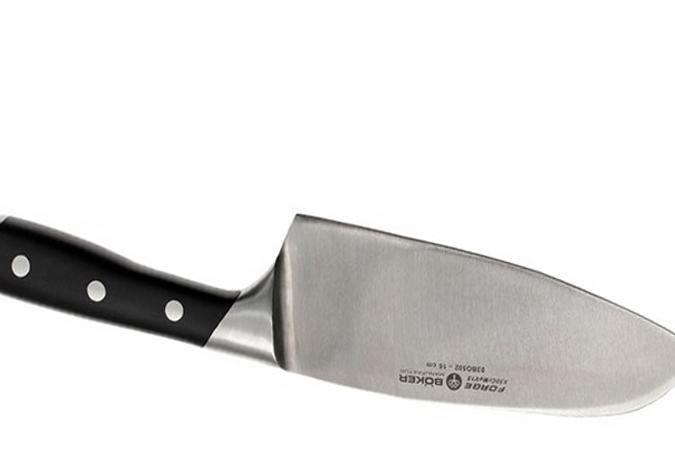knife: (1, 210, 675, 413)
